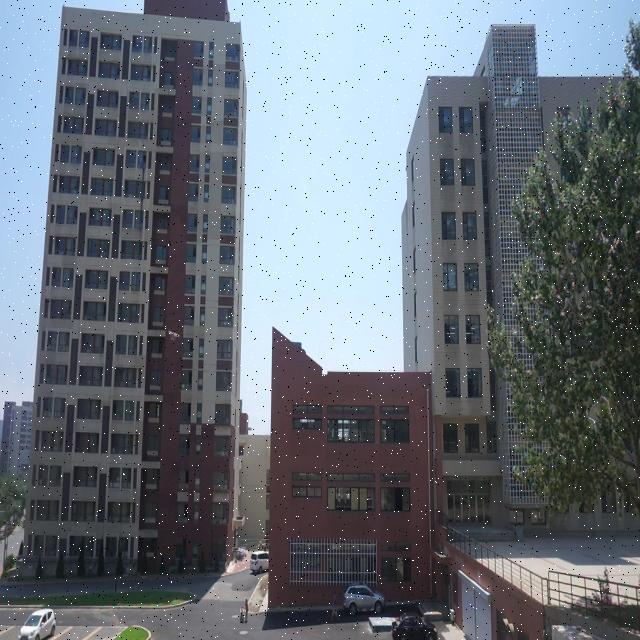UAV: (168, 329, 180, 342)
